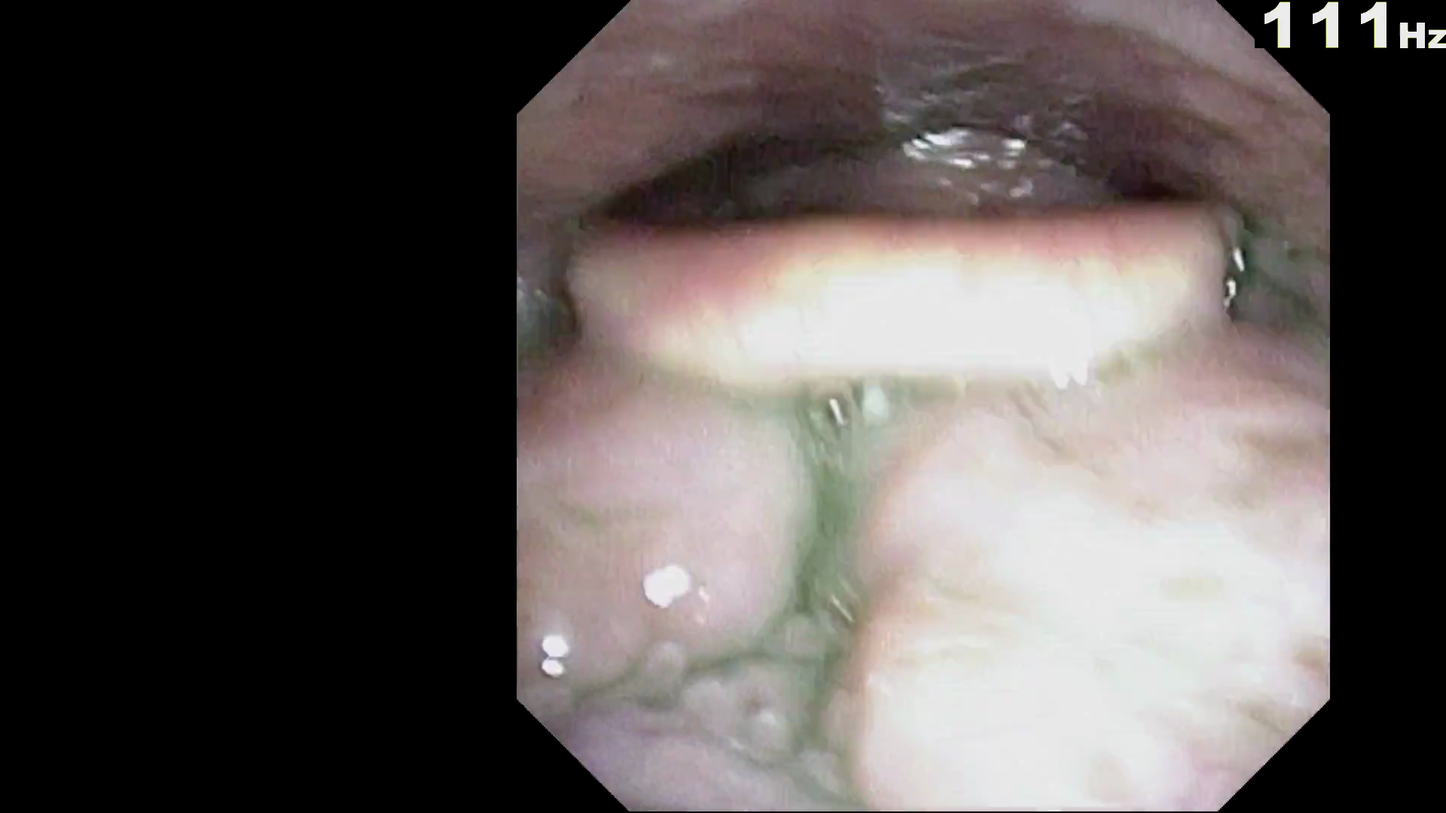epiglottis: (565, 204, 1243, 411)
trachea: (894, 324, 1034, 479)
